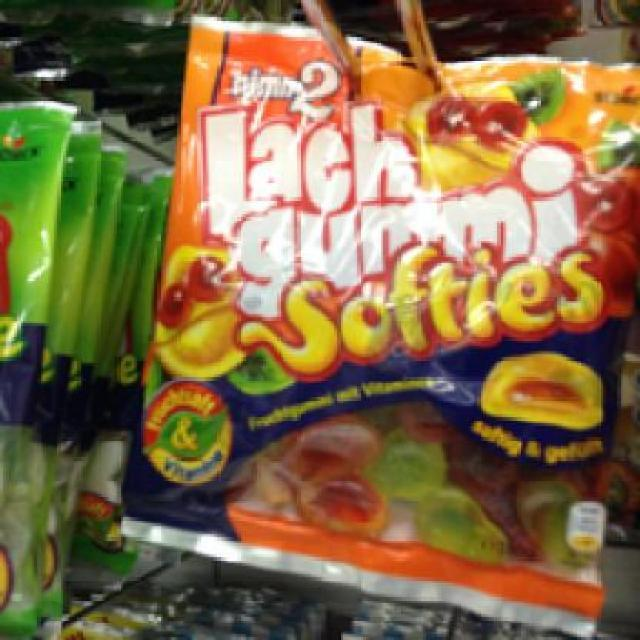Candy: (125, 15, 638, 634)
